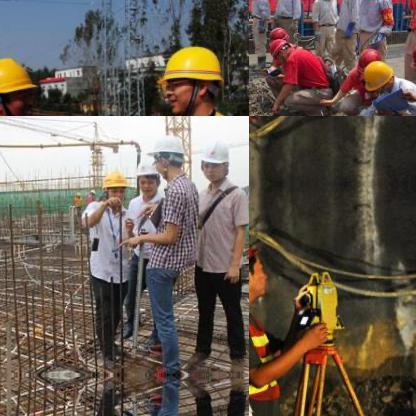Helmet: (152, 39, 226, 115), (0, 50, 42, 115), (150, 131, 190, 179), (195, 135, 230, 185), (360, 54, 396, 96), (249, 234, 270, 303), (100, 164, 128, 206), (130, 156, 158, 198), (356, 45, 380, 69), (264, 22, 289, 43), (266, 34, 288, 56), (249, 116, 271, 132)
